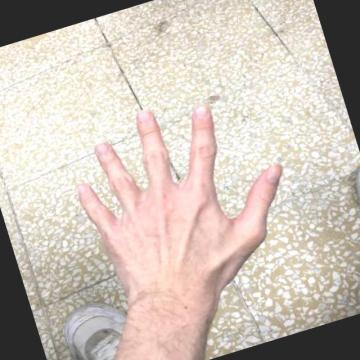hand: (74, 100, 283, 277)
